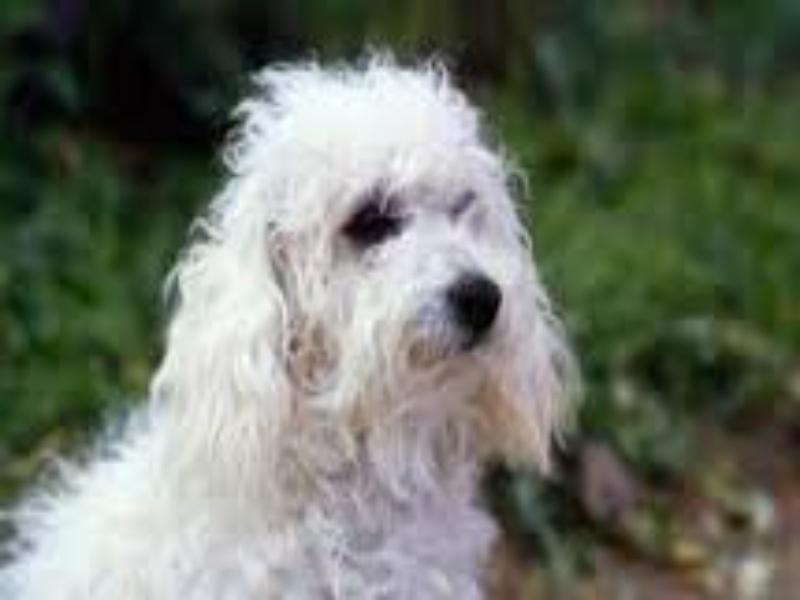dog: (36, 67, 584, 593)
